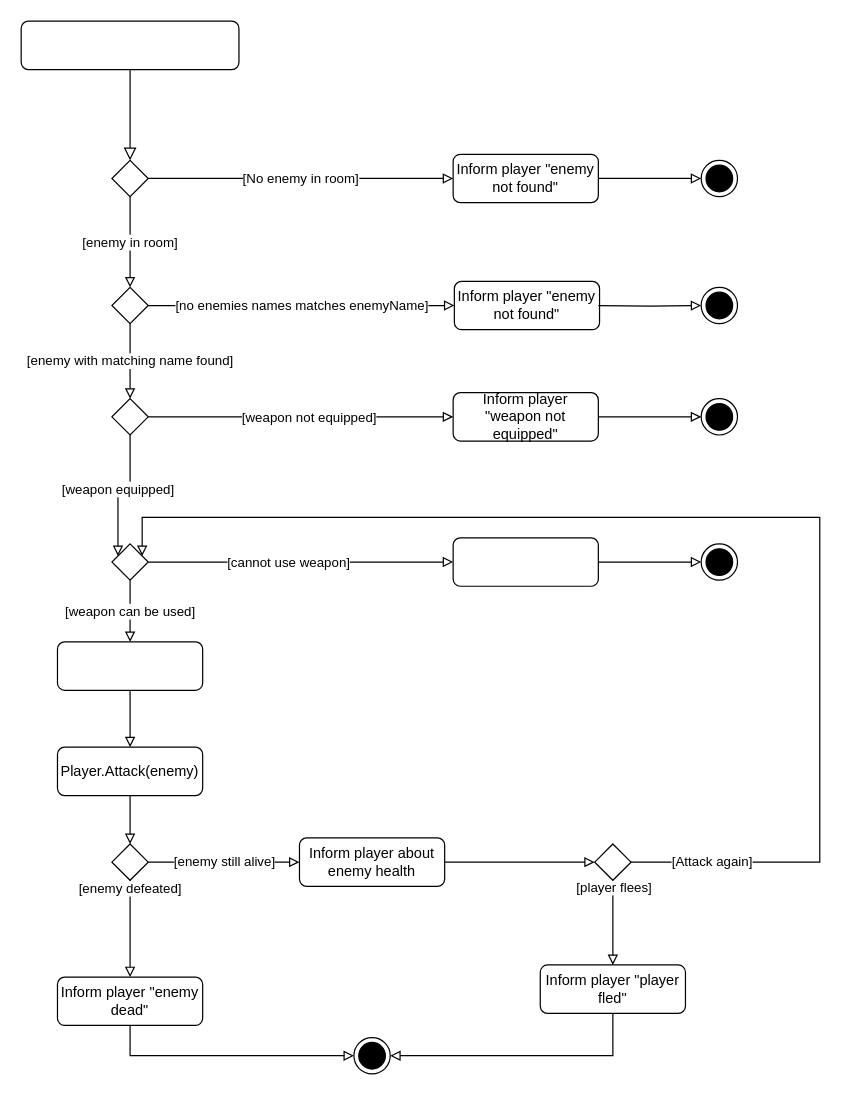
This 851x1095 diagram has some shape labels left out. The shapes that lost their labels are listed below. From the top down, each one's centre as x and y in pixels, then its label:
the point at 129,45: Player.TryAttack(enemyName)
the point at 525,561: Inform player "weapon out of ammo"
the point at 129,665: Inform player "enemy attacked"
